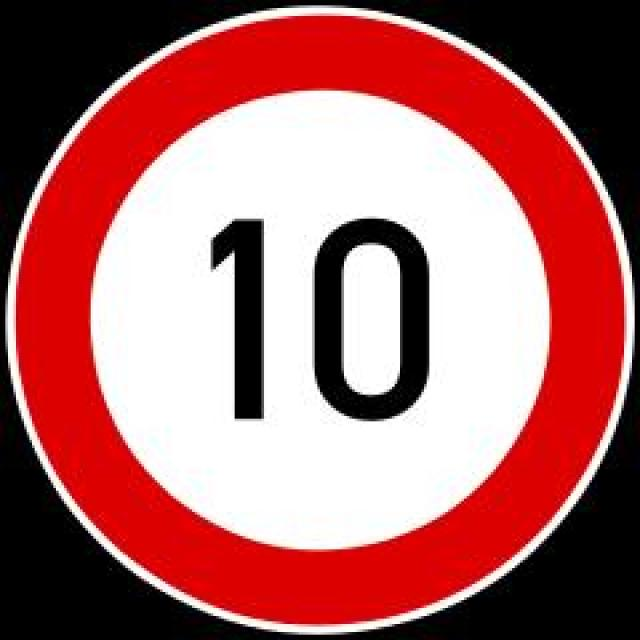speed limit 10: (5, 0, 632, 640)
